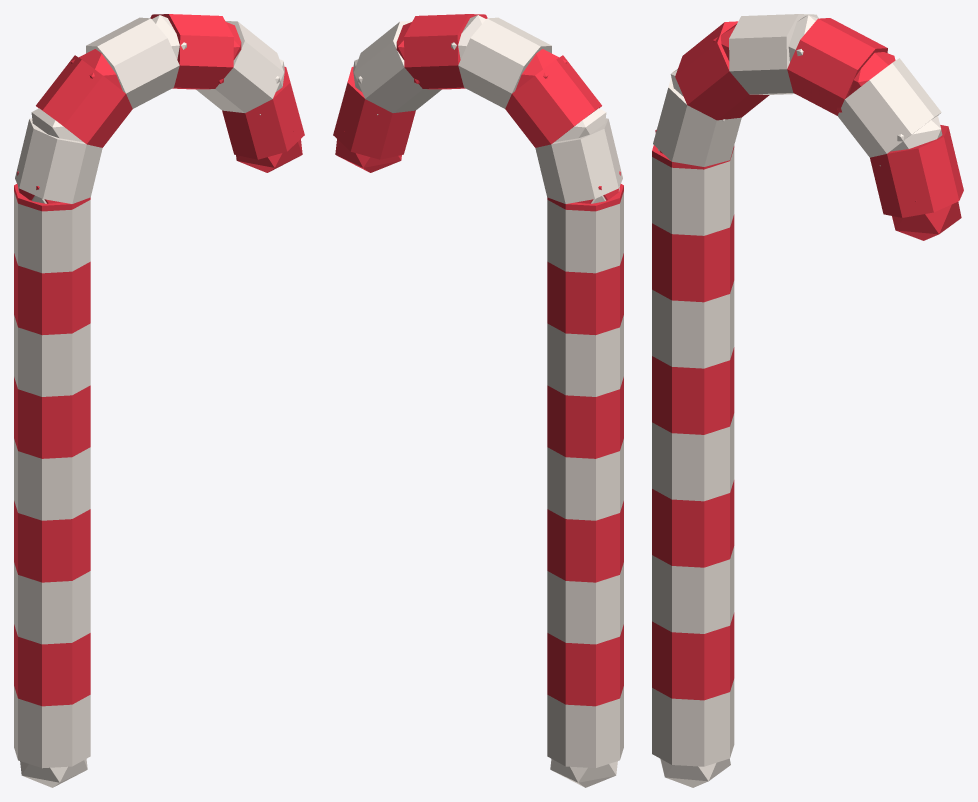
Rendered from CandyCane.fbx.
3 views of the same model, side by side, from view 1: azimuth 30°, elevation 25°; view 2: azimuth 150°, elevation 25°; view 3: azimuth 330°, elevation 25° (orthographic). The views are drawn at different scales.
Parts seen in each view (by area): view 1: CandyCane; view 2: CandyCane; view 3: CandyCane.
Boxes of the visible parts, x1,y1,x2,y2 form: CandyCane: (14,14,304,787); CandyCane: (333,14,623,787); CandyCane: (652,14,963,787).
Bounding box in the file's own units: 263 × 664 × 64.
1 material, 1 textured.
